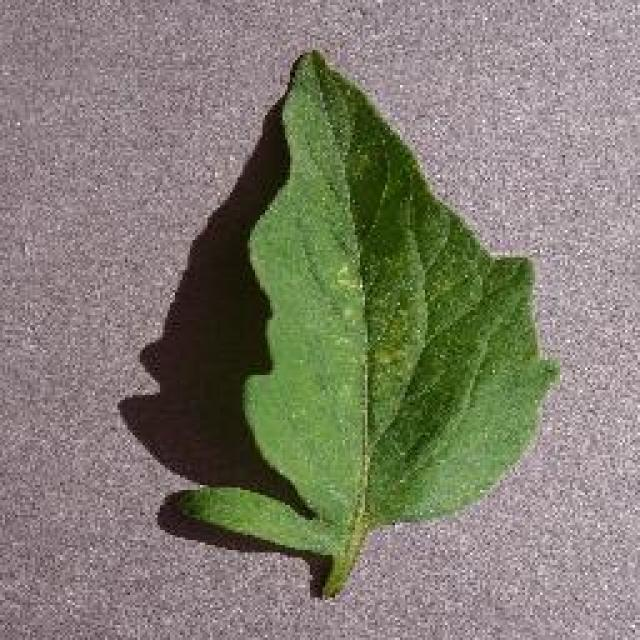Tom_Spider_mites Two-spotted_spider_mite: (300, 170, 462, 459)
